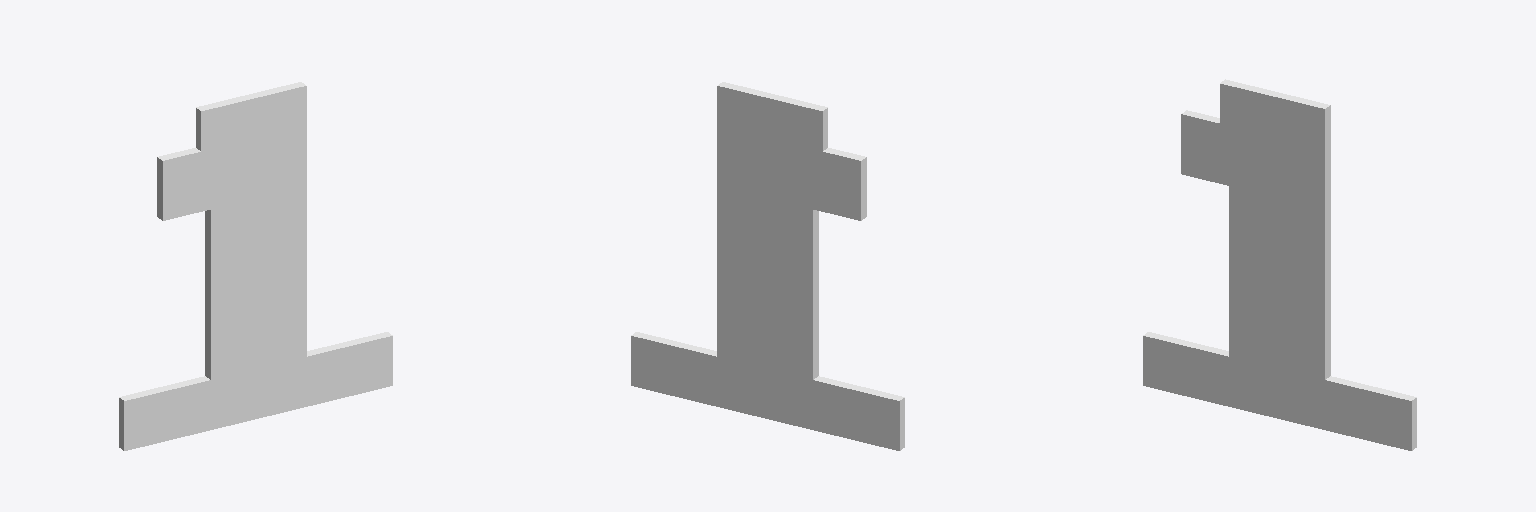
3 views of the same model, side by side, from view 1: azimuth 30°, elevation 25°; view 2: azimuth 150°, elevation 25°; view 3: azimuth 330°, elevation 25° (orthographic).
Parts seen in each view (by area): view 1: ch_1_32; view 2: ch_1_32; view 3: ch_1_32.
Boxes of the visible parts, x1=… form: ch_1_32: x1=119, y1=82, x2=392, y2=450; ch_1_32: x1=631, y1=82, x2=904, y2=450; ch_1_32: x1=1143, y1=79, x2=1416, y2=450.
Size of the model in its own units: 28 by 32 by 1.